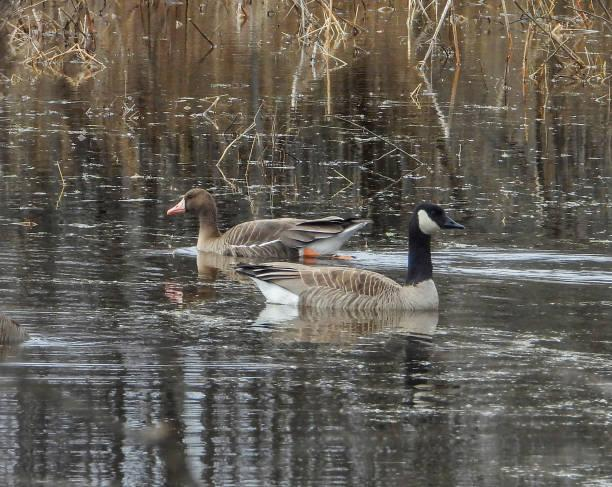Canadian-Goose: (236, 205, 468, 324)
